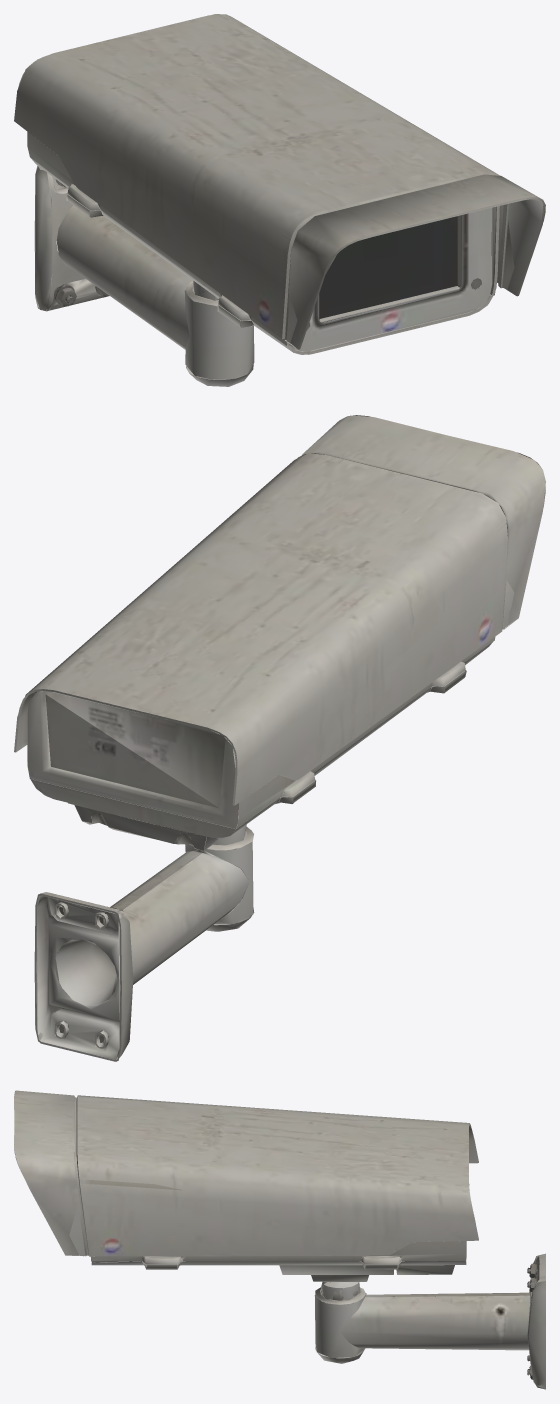
File: security_camera_02.glb
3 renders of one model, top to bottom at view 1: azimuth 30°, elevation 25°; view 2: azimuth 150°, elevation 25°; view 3: azimuth 270°, elevation 25°, orthographic. The views are drawn at different scales.
Parts seen in each view (by area): view 1: head, mount; view 2: head, mount; view 3: head, mount.
Part boxes in pixels (x1,y1,x2,y2): head: (14, 14, 545, 354); mount: (34, 165, 254, 386); head: (14, 415, 545, 850); mount: (34, 824, 254, 1061); head: (14, 1090, 478, 1304); mount: (314, 1253, 545, 1389).
Bounding box in the file's own units: 0.1415 × 0.2086 × 0.3938.
2 materials, 2 textured.
